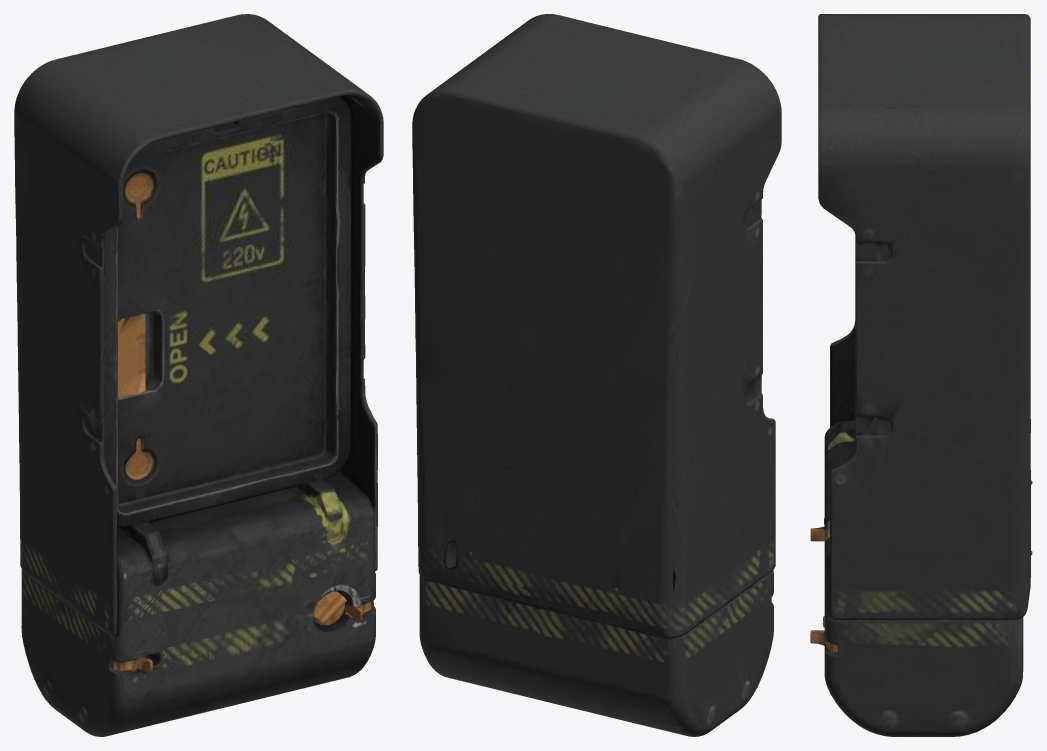
The model's file is distribution_board.glb.
3 renders of one model, left to right at view 1: azimuth 30°, elevation 25°; view 2: azimuth 150°, elevation 25°; view 3: azimuth 270°, elevation 25°, orthographic.
Parts seen in each view (by area): view 1: Mesh_0; view 2: Mesh_0; view 3: Mesh_0.
Boxes of the visible parts, x1,y1,x2,y2 form: Mesh_0: (14,14,383,736); Mesh_0: (412,14,781,736); Mesh_0: (810,14,1032,736).
Bounding box in the file's own units: 0.8606 × 1.9 × 0.6232.
1 material, 1 textured.
